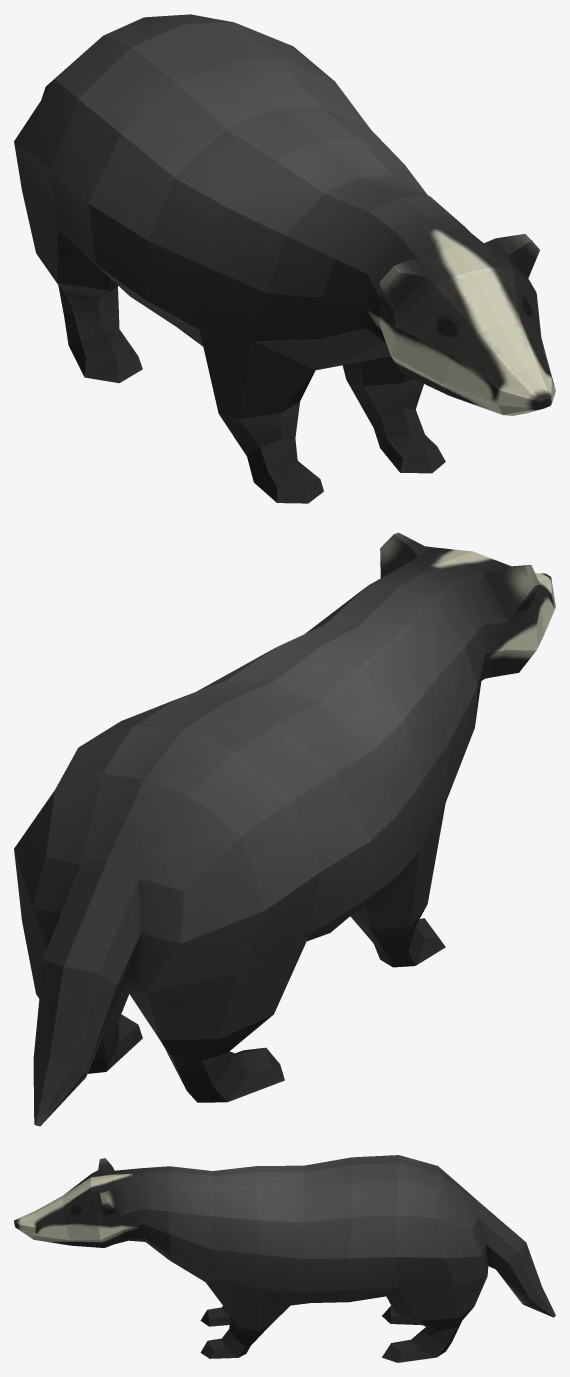
Rendered from 8k4cduyRhi4.glb.
The picture shows the model from 3 angles, top to bottom: view 1: azimuth 30°, elevation 25°; view 2: azimuth 150°, elevation 25°; view 3: azimuth 270°, elevation 25°; orthographic projection. The views are drawn at different scales.
Visible parts, largest first — view 1: Badger:Badger_mesh; view 2: Badger:Badger_mesh; view 3: Badger:Badger_mesh.
Part boxes in pixels (bbox=[...]): Badger:Badger_mesh: bbox=[14, 14, 555, 503]; Badger:Badger_mesh: bbox=[14, 532, 555, 1126]; Badger:Badger_mesh: bbox=[14, 1155, 555, 1362].
Size of the model in its own units: 0.8977 by 1 by 2.82.
Materials: 1 (1 with a texture image).
